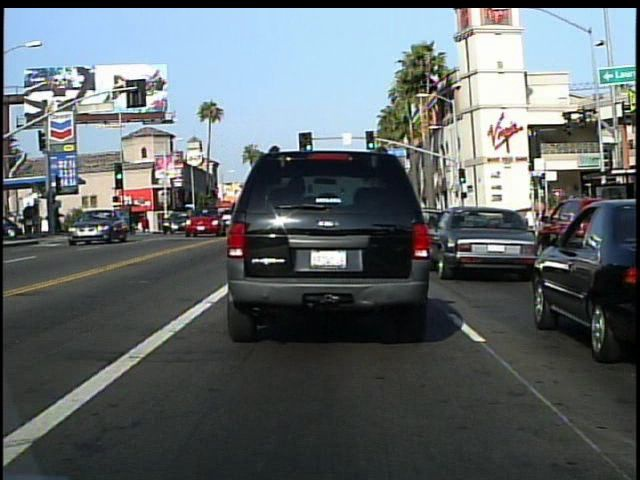person: (18, 203, 41, 241)
